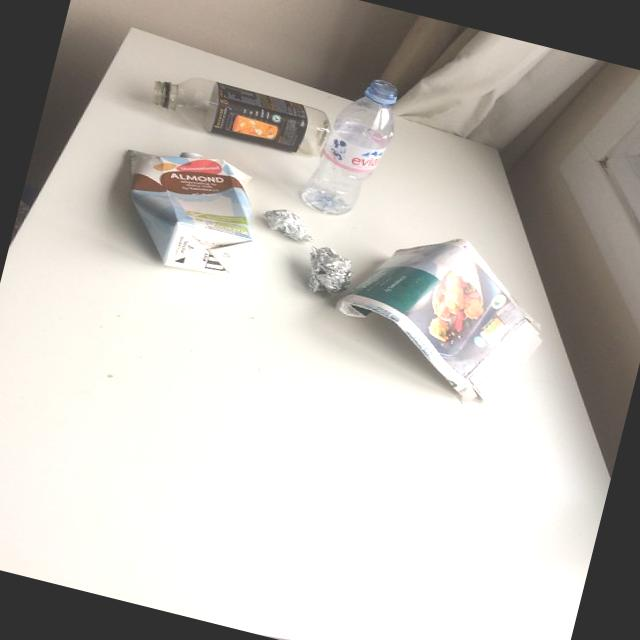Recycle: (324, 213, 566, 414), (136, 65, 338, 171), (304, 70, 401, 230), (297, 242, 362, 309), (252, 199, 321, 247)
Trash: (93, 132, 270, 286)
